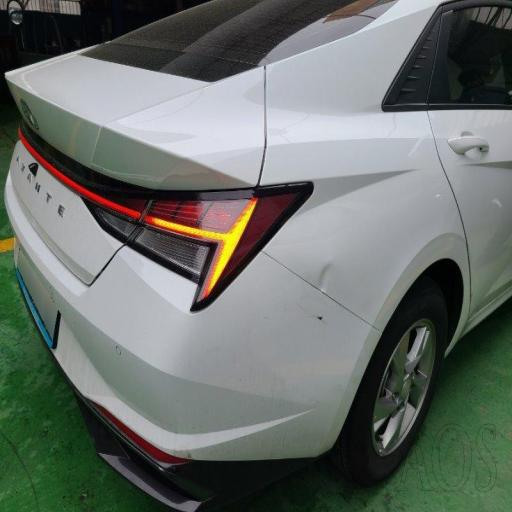dent: (136, 87, 404, 231)
